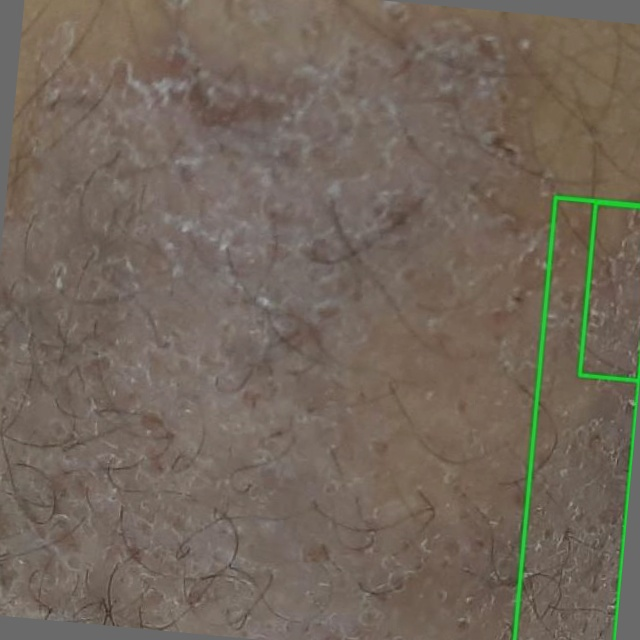Eczema: (514, 197, 639, 639), (579, 202, 639, 380)
